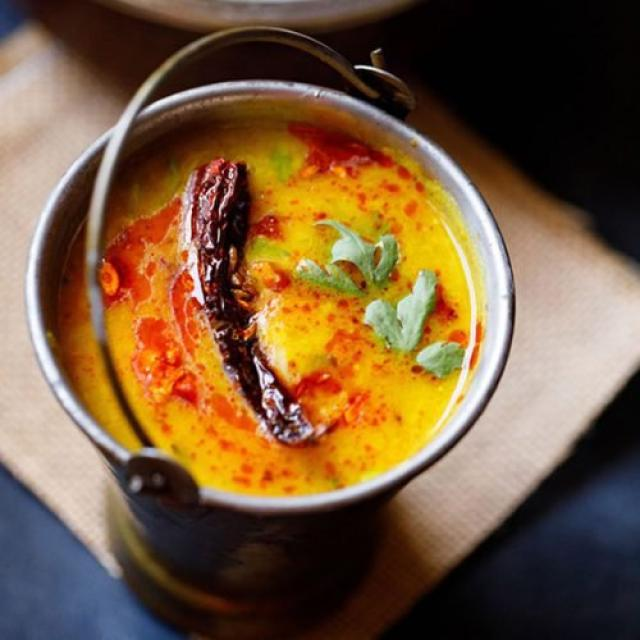dal: (141, 179, 467, 469)
